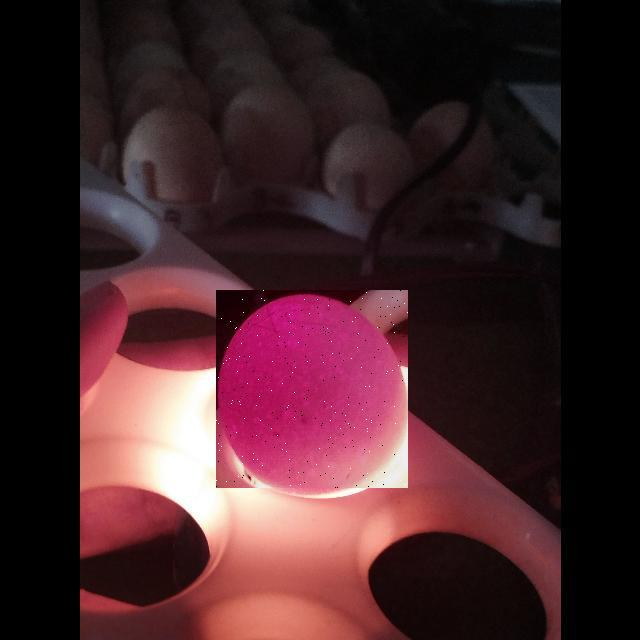Fertile: (216, 290, 408, 488)
